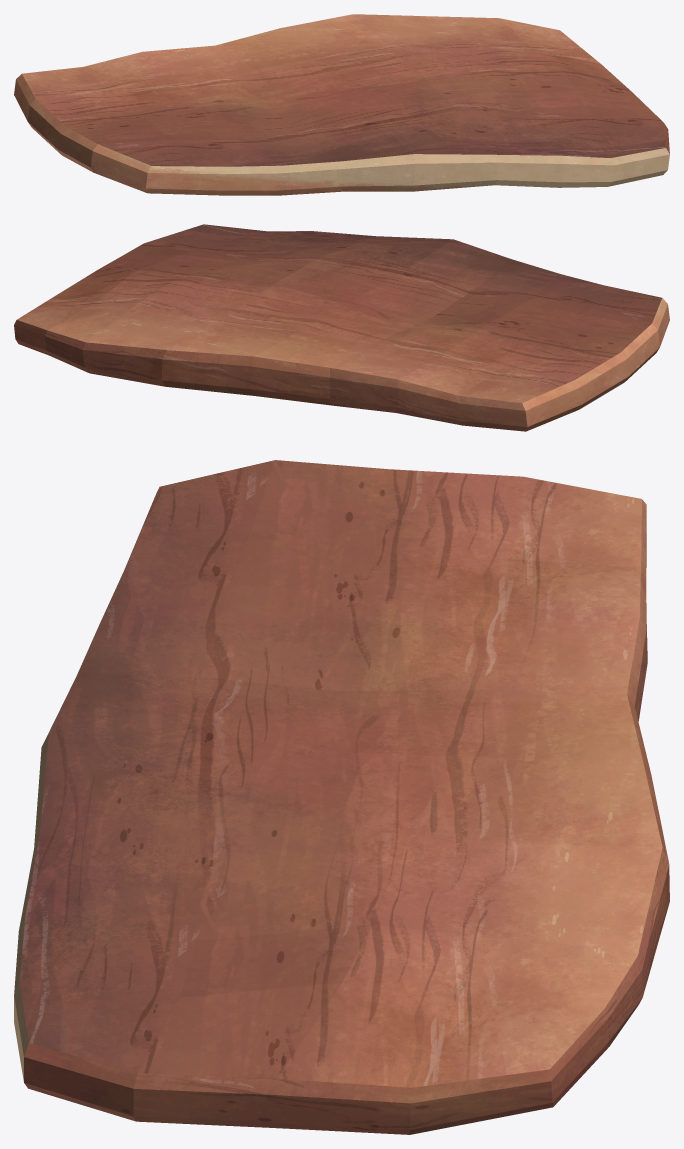
The model's file is flat_rock_1.fbx.
3 renders of one model, top to bottom at view 1: azimuth 30°, elevation 25°; view 2: azimuth 150°, elevation 25°; view 3: azimuth 270°, elevation 25°, orthographic. The views are drawn at different scales.
Visible parts, largest first — view 1: flat rock 1; view 2: flat rock 1; view 3: flat rock 1.
Part boxes in pixels (x1=…): flat rock 1: x1=14, y1=14, x2=669, y2=195; flat rock 1: x1=14, y1=224, x2=669, y2=431; flat rock 1: x1=14, y1=460, x2=669, y2=1134.
Size of the model in its own units: 3093 by 576 by 1745.
